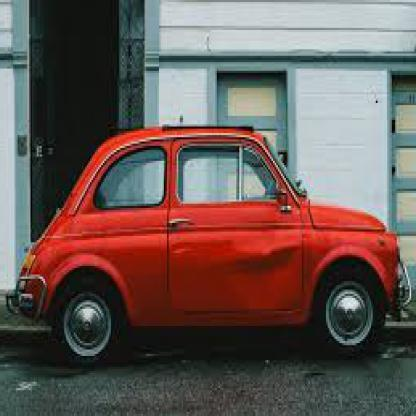dent: (252, 238, 300, 272)
